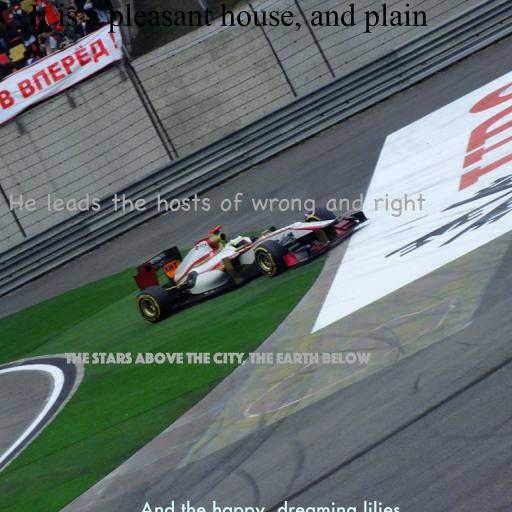Chalkboard: (8, 192, 426, 218)
Futura: (139, 500, 401, 512)
Phosphate: (65, 352, 371, 366)
Times New Roman: (28, 3, 428, 33)
